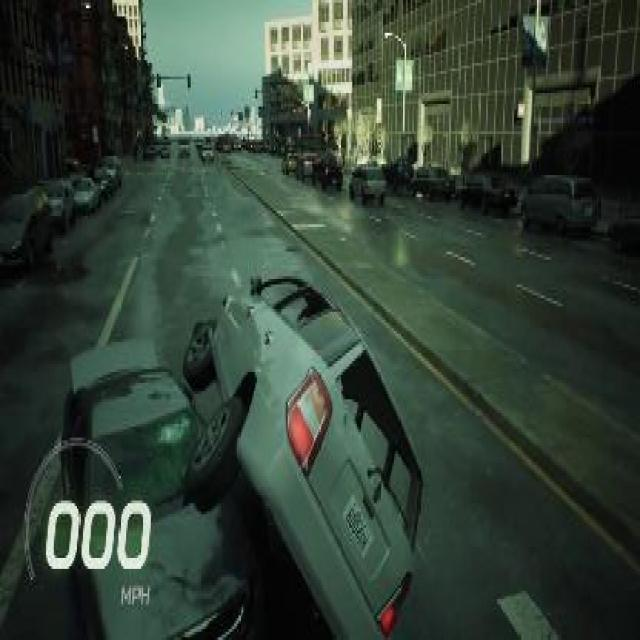accident: (55, 255, 428, 638)
